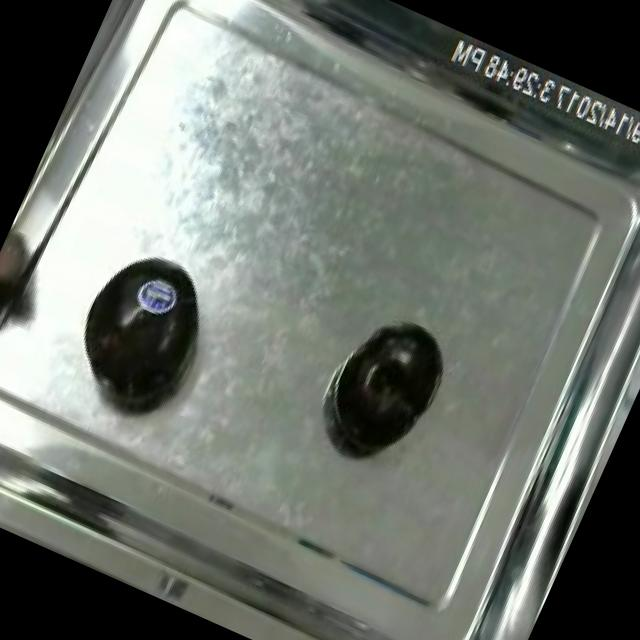Fruit: (52, 234, 232, 427), (317, 306, 458, 470)
